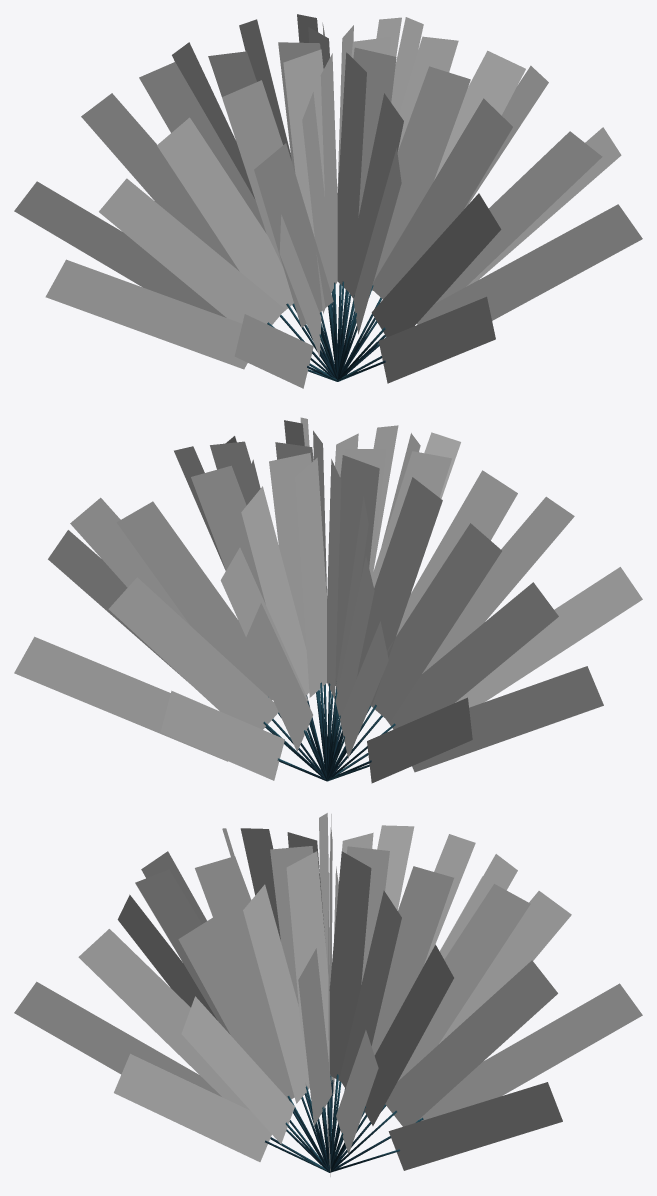
The model's file is Prop_Arbusto2.fbx.
3 renders of one model, top to bottom at view 1: azimuth 30°, elevation 25°; view 2: azimuth 150°, elevation 25°; view 3: azimuth 270°, elevation 25°, orthographic. The views are drawn at different scales.
Parts seen in each view (by area): view 1: Hoja_LargaAzul2.010; view 2: Hoja_LargaAzul2.010; view 3: Hoja_LargaAzul2.010.
Boxes of the visible parts, left/top/right/bottom form: Hoja_LargaAzul2.010: left=14, top=14, right=642, bottom=388; Hoja_LargaAzul2.010: left=14, top=417, right=642, bottom=783; Hoja_LargaAzul2.010: left=14, top=813, right=642, bottom=1176.
Size of the model in its own units: 4.01 by 2.26 by 3.94.
